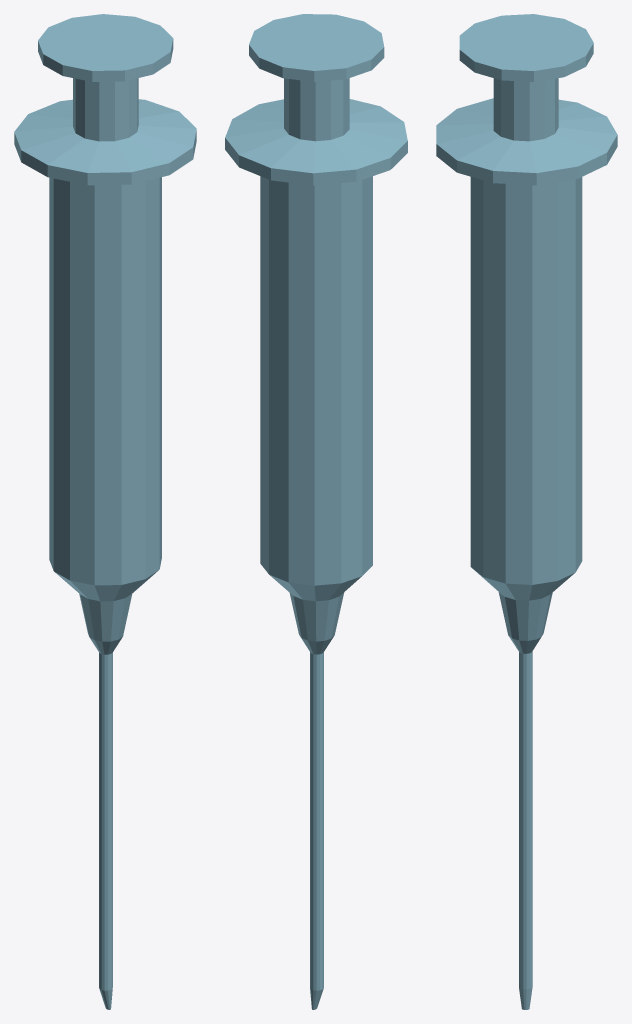
Rendered from Jeringa_01.obj.
3 renders of one model, left to right at view 1: azimuth 30°, elevation 25°; view 2: azimuth 150°, elevation 25°; view 3: azimuth 270°, elevation 25°, orthographic.
Visible parts, largest first — view 1: Cylinder.001_Cylinder.002; view 2: Cylinder.001_Cylinder.002; view 3: Cylinder.001_Cylinder.002.
Boxes of the visible parts, x1=… form: Cylinder.001_Cylinder.002: x1=14, y1=14, x2=196, y2=1009; Cylinder.001_Cylinder.002: x1=225, y1=14, x2=407, y2=1009; Cylinder.001_Cylinder.002: x1=436, y1=14, x2=617, y2=1009.
Bounding box in the file's own units: 3.22 × 18.8 × 3.2.
